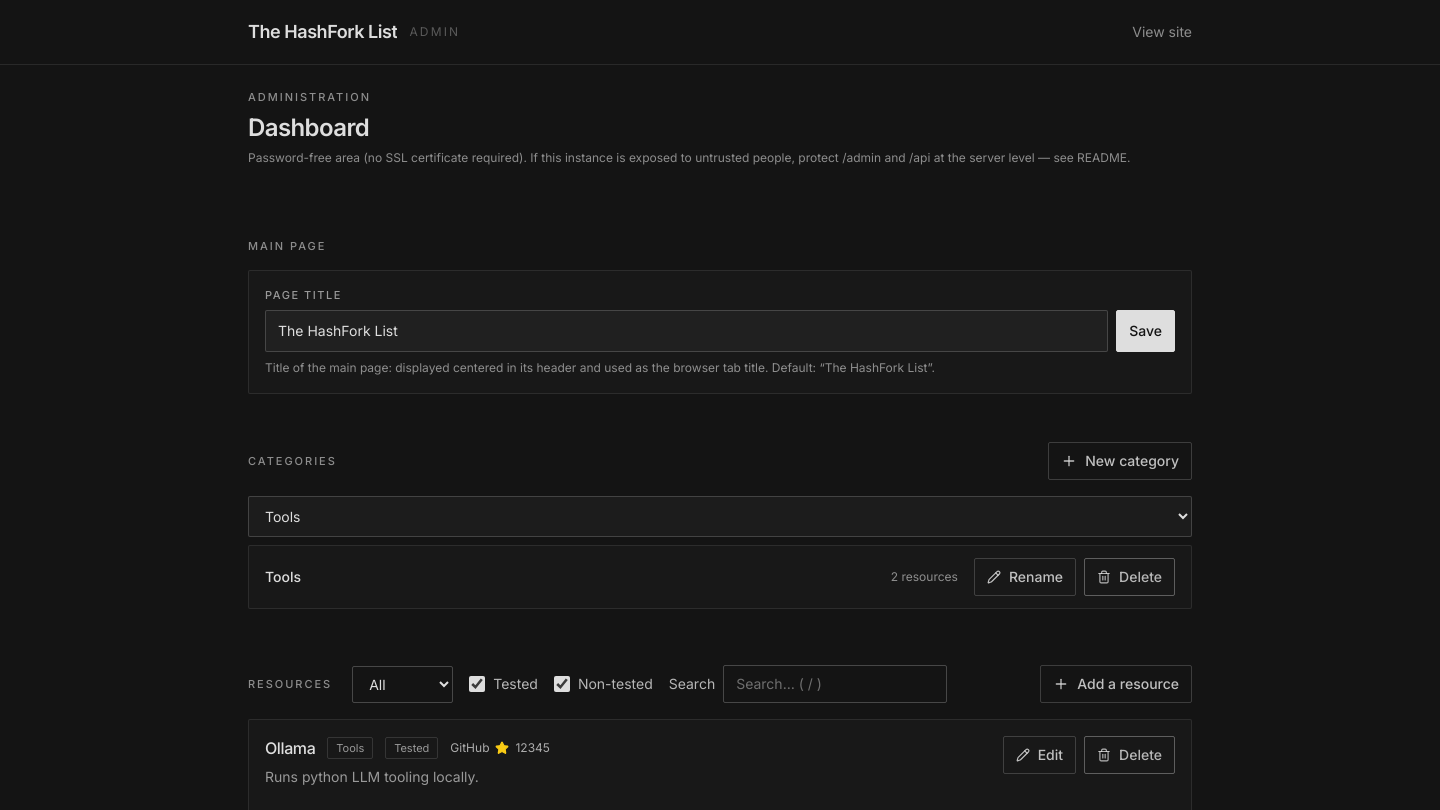
Test case: Admin — unsaved category changes › keeps the normal rename behaviour without changes
Select "Tools" in the dropdown named "Manage category" below "Categories" at (720, 516), box left=248, top=496, right=1192, bottom=537
Click the button "Rename".
click(1025, 577)  # box left=974, top=558, right=1076, bottom=596
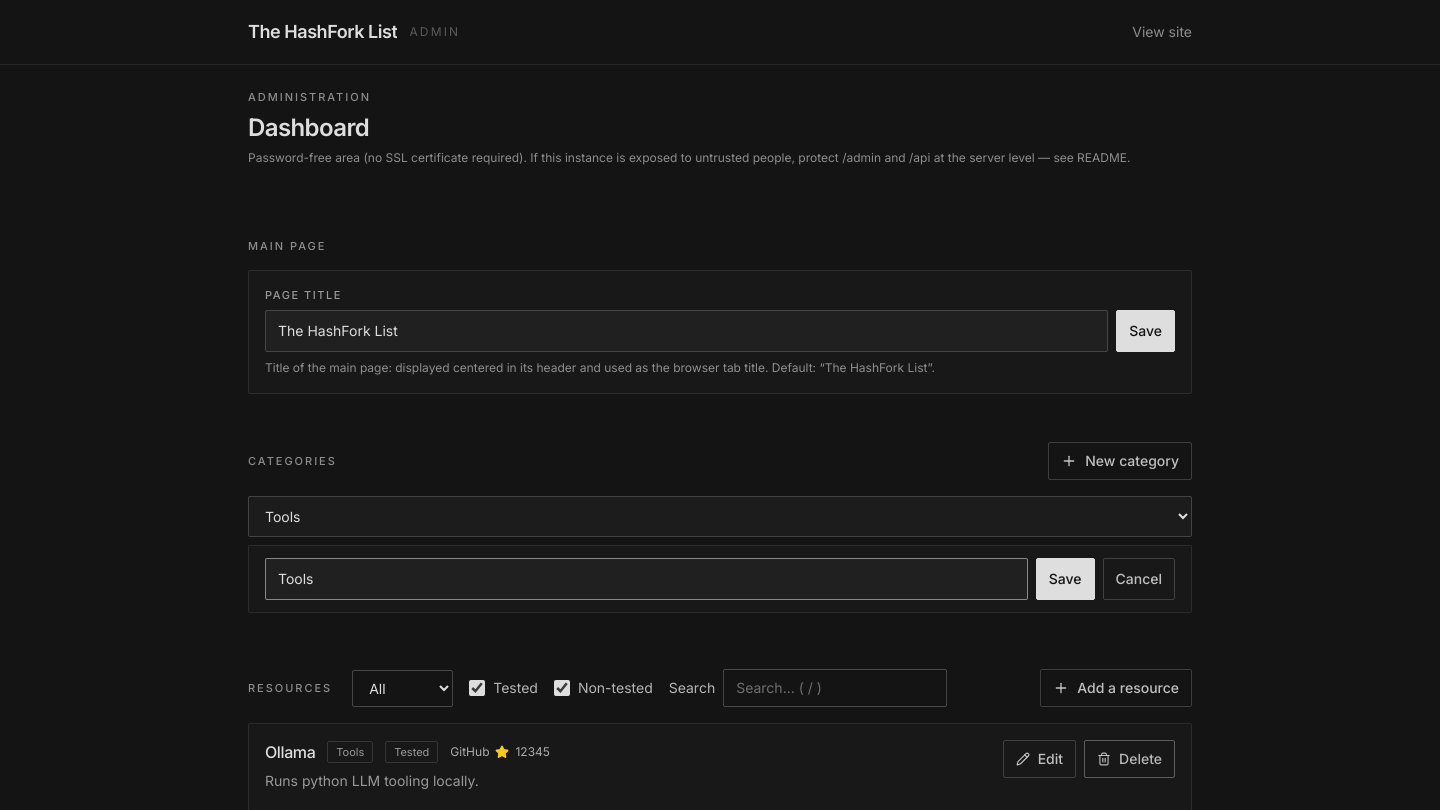
Select "Security" in the dropdown named "Manage category" below "Categories" at (720, 516), box left=248, top=496, right=1192, bottom=537
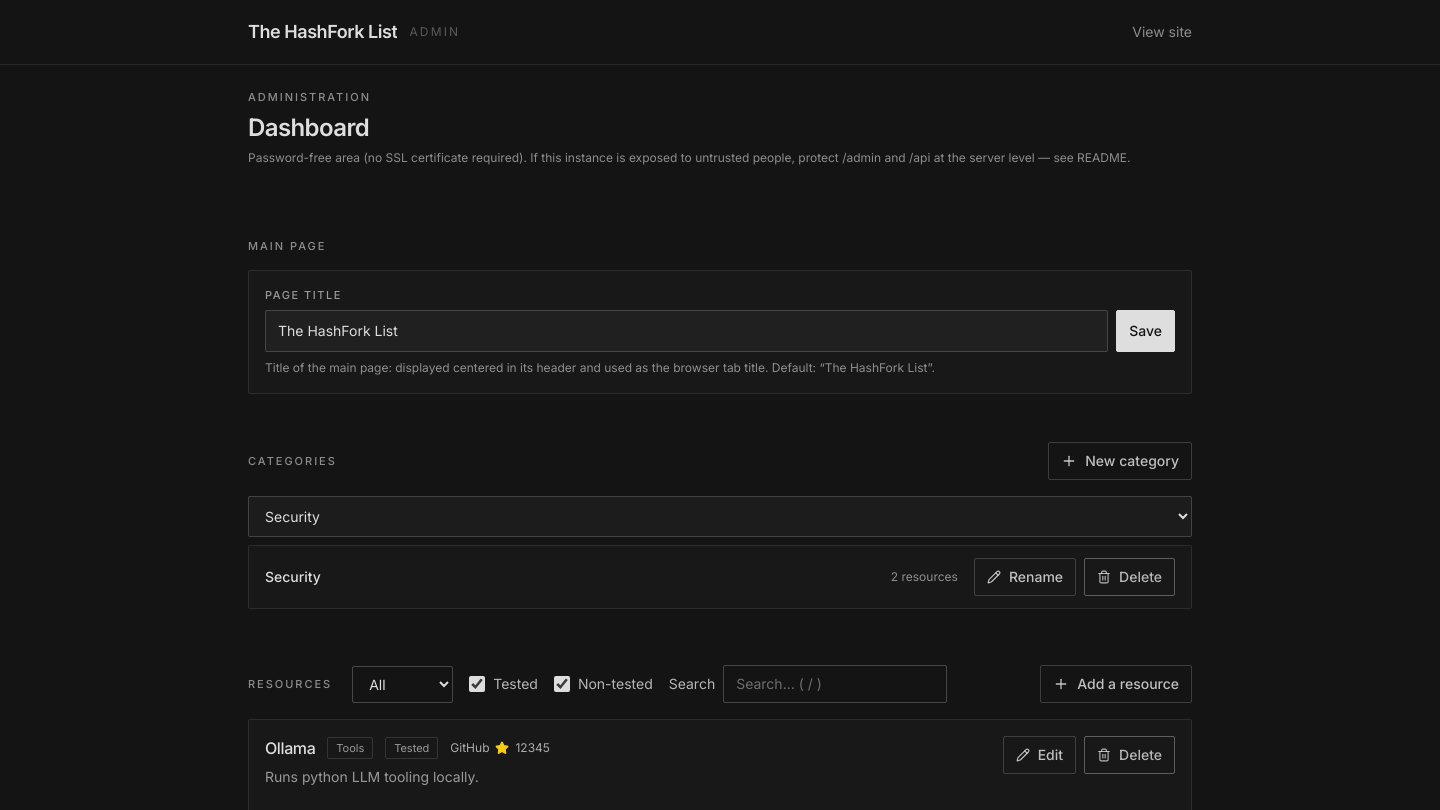
Click the button "Rename".
click(1025, 577)  # box left=974, top=558, right=1076, bottom=596
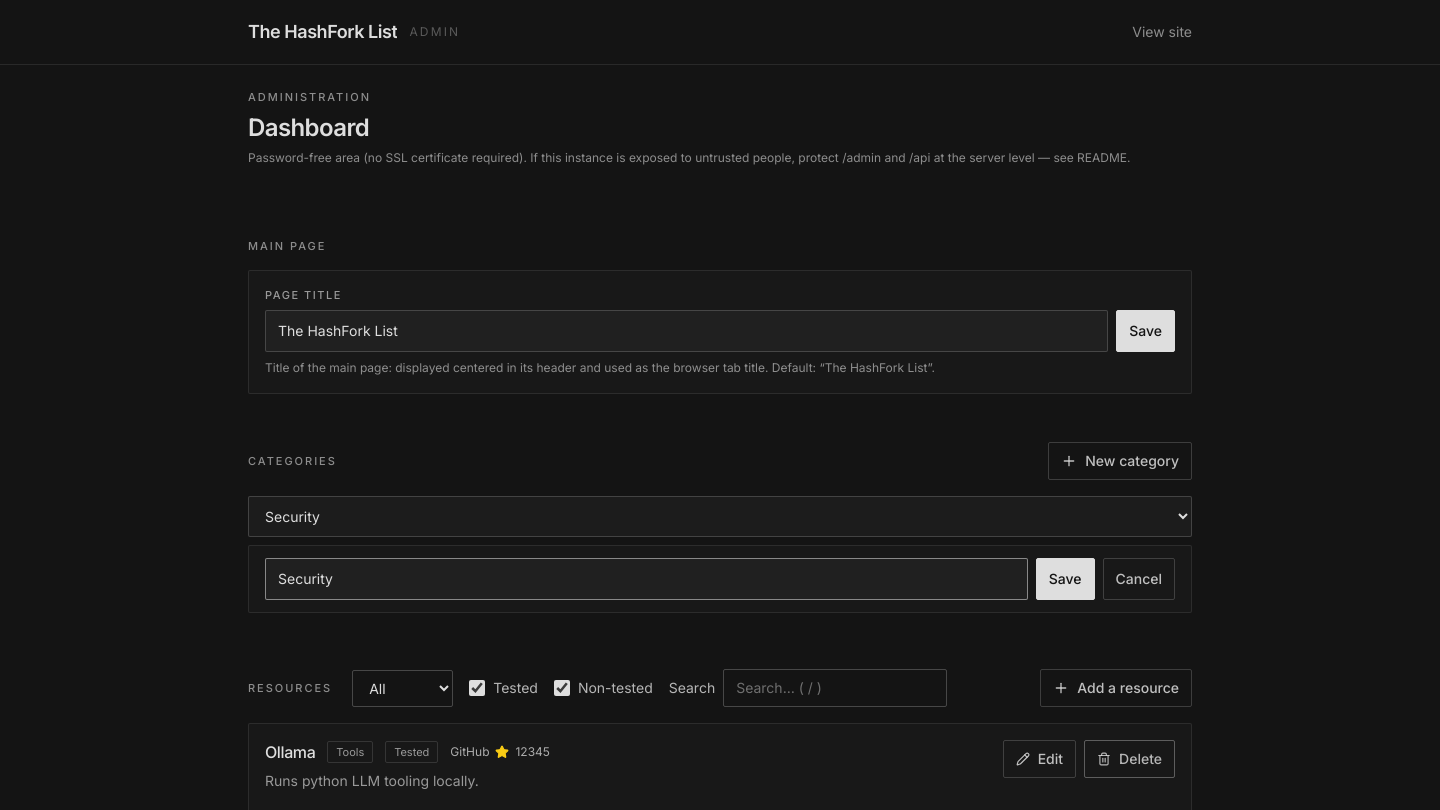
Check: the field named "New category name" holds "Security", box left=265, top=558, right=1028, bottom=600
